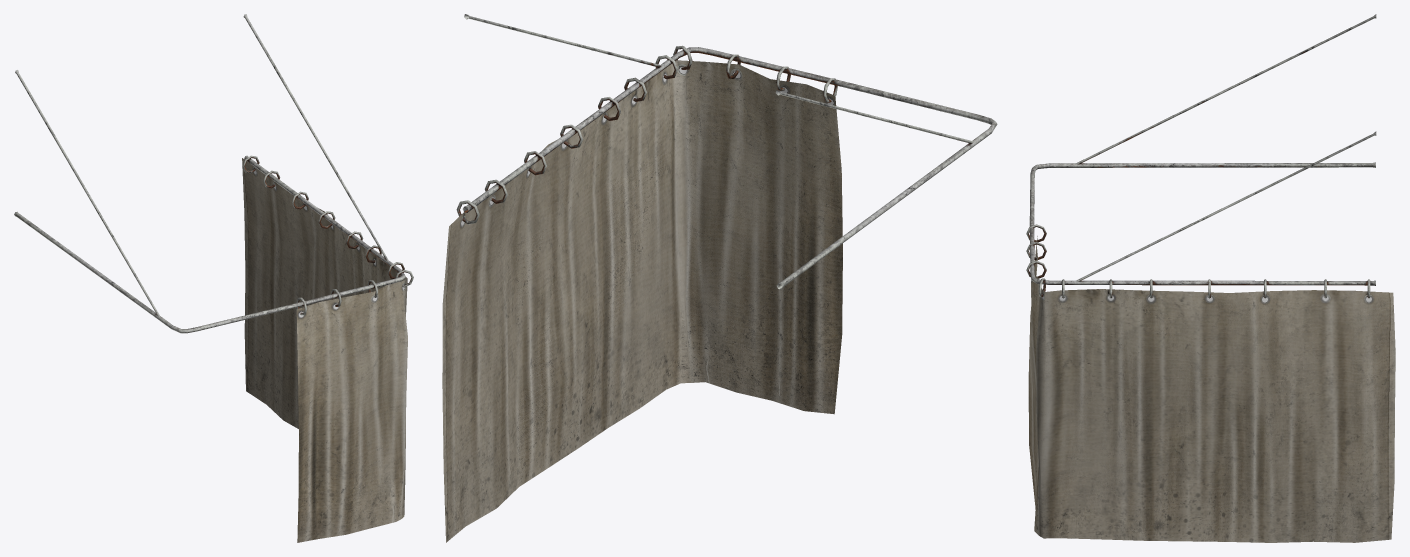
Rendered from Curtain1.fbx.
The picture shows the model from 3 angles, left to right: view 1: azimuth 30°, elevation 25°; view 2: azimuth 150°, elevation 25°; view 3: azimuth 270°, elevation 25°; orthographic projection. The views are drawn at different scales.
Visible parts, largest first — view 1: Curtain; view 2: Curtain; view 3: Curtain.
Boxes of the visible parts, x1=… form: Curtain: x1=14, y1=14, x2=413, y2=542; Curtain: x1=442, y1=14, x2=997, y2=542; Curtain: x1=1026, y1=14, x2=1395, y2=542.
Size of the model in its own units: 527 by 794 by 654.
1 material, 1 textured.
